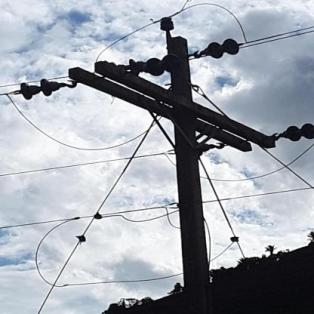Poste: (164, 31, 218, 314)
